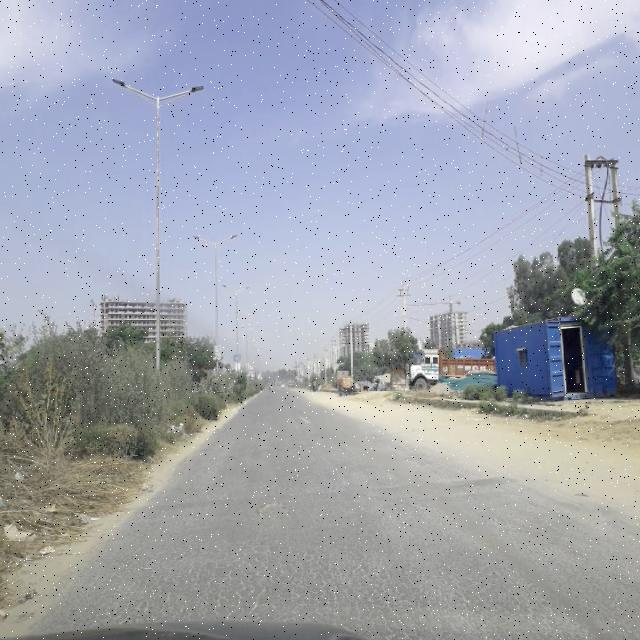D20: (78, 516, 616, 622)
D40: (255, 495, 293, 518)
